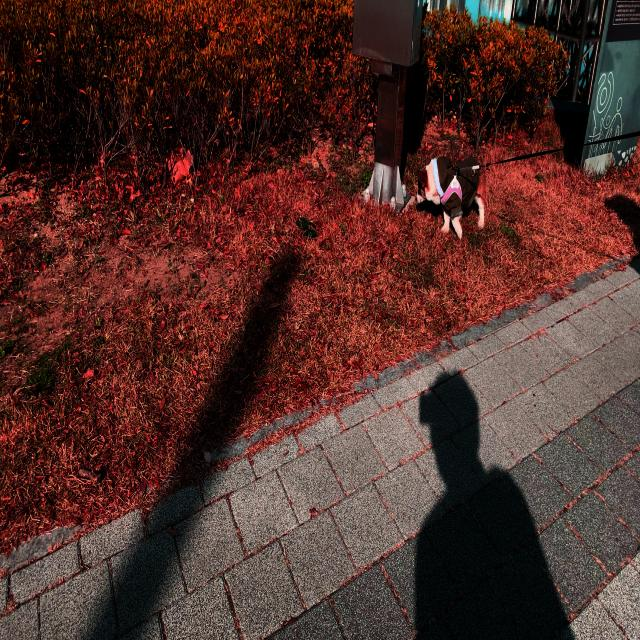Dog: (415, 156, 487, 239)
